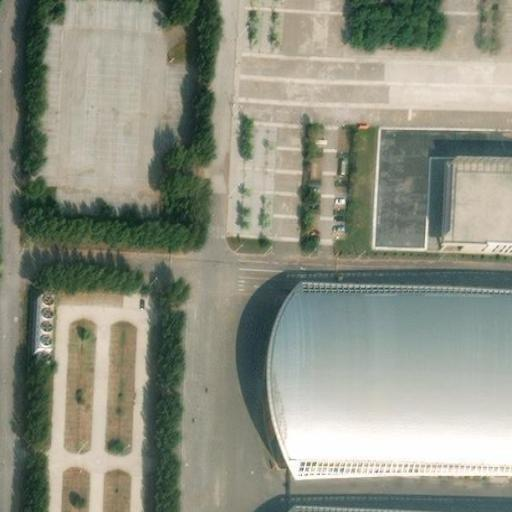building: (371, 123, 439, 248), (450, 146, 512, 239), (286, 488, 510, 512), (53, 282, 128, 306), (27, 289, 51, 353)
